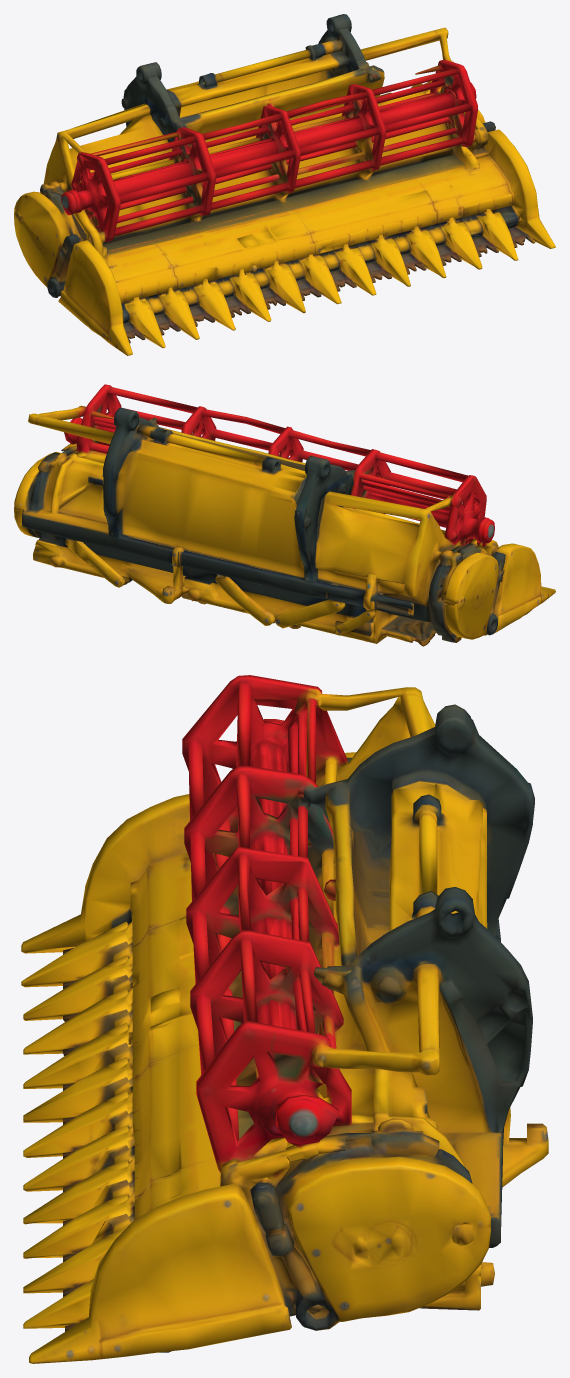
File: harvester_header.glb
3 renders of one model, top to bottom at view 1: azimuth 30°, elevation 25°; view 2: azimuth 150°, elevation 25°; view 3: azimuth 270°, elevation 25°, orthographic. The views are drawn at different scales.
Parts seen in each view (by area): view 1: tripo_node_b9a22874-f4f2-4acd-b427-9341e0933c6d; view 2: tripo_node_b9a22874-f4f2-4acd-b427-9341e0933c6d; view 3: tripo_node_b9a22874-f4f2-4acd-b427-9341e0933c6d.
Boxes of the visible parts, x1=… form: tripo_node_b9a22874-f4f2-4acd-b427-9341e0933c6d: x1=14, y1=14, x2=555, y2=355; tripo_node_b9a22874-f4f2-4acd-b427-9341e0933c6d: x1=14, y1=384, x2=555, y2=646; tripo_node_b9a22874-f4f2-4acd-b427-9341e0933c6d: x1=21, y1=675, x2=548, y2=1363.
Size of the model in its own units: 0.9788 by 0.3965 by 0.5076.
1 material, 1 textured.
